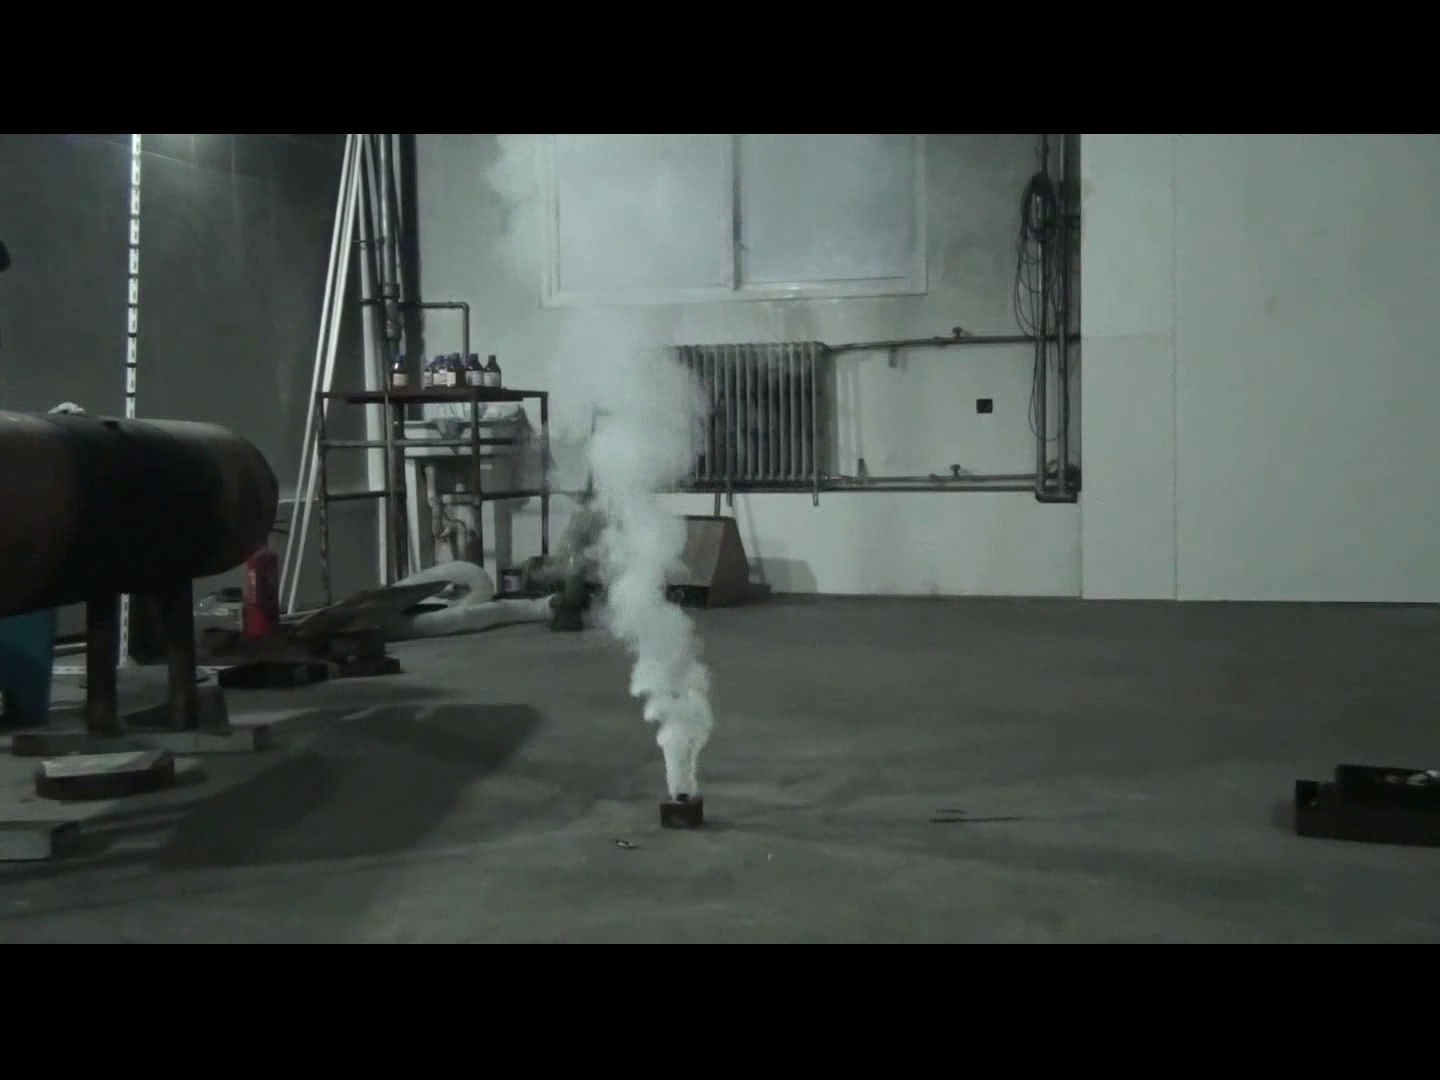smoke: (489, 147, 730, 796)
